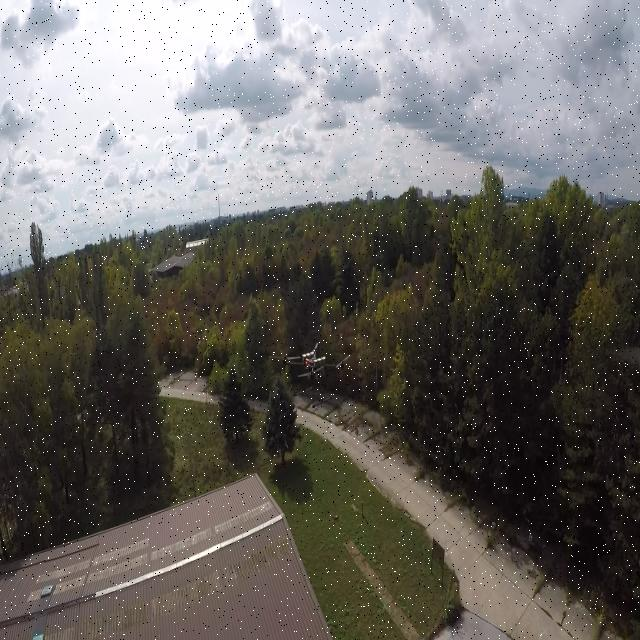UAV: (268, 338, 352, 410)
